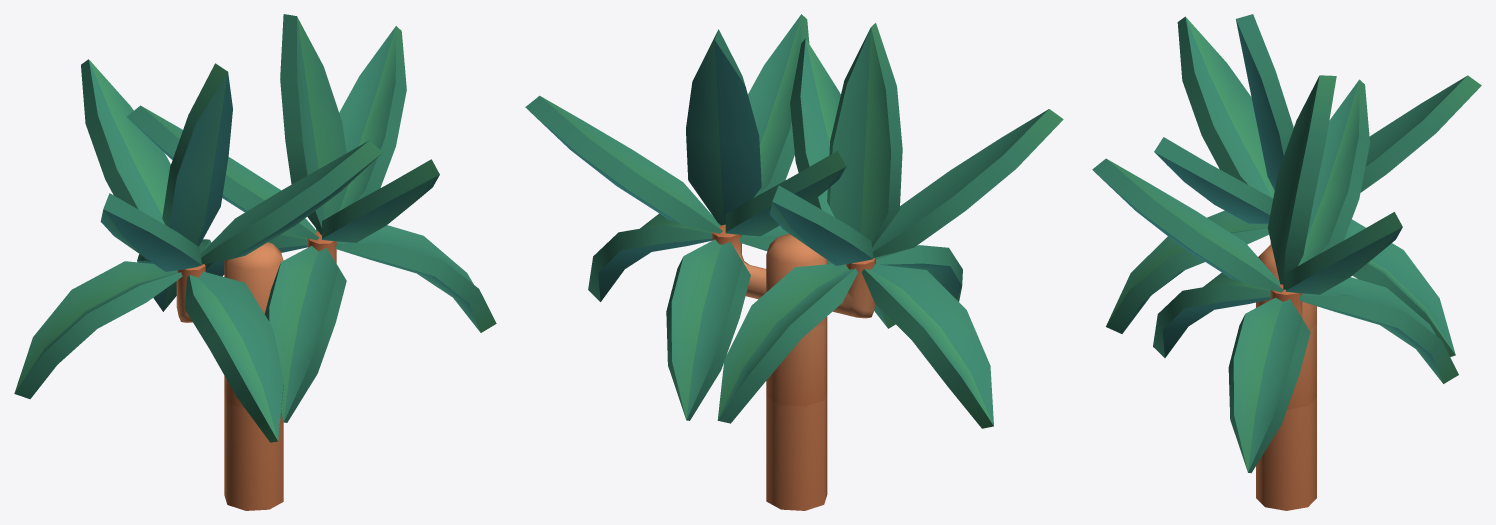
File: house_plants_plants_yucca_branch.glb
The picture shows the model from 3 angles, left to right: view 1: azimuth 30°, elevation 25°; view 2: azimuth 150°, elevation 25°; view 3: azimuth 270°, elevation 25°; orthographic projection. The views are drawn at different scales.
Visible parts, largest first — view 1: yucca_branch_small_A; view 2: yucca_branch_small_A; view 3: yucca_branch_small_A.
Part boxes in pixels (left/top/right/bottom): yucca_branch_small_A: left=14, top=14, right=496, bottom=510; yucca_branch_small_A: left=525, top=14, right=1063, bottom=510; yucca_branch_small_A: left=1092, top=14, right=1481, bottom=510.
Size of the model in its own units: 0.8249 by 0.8273 by 0.6393.
Materials: 1 (1 with a texture image).
